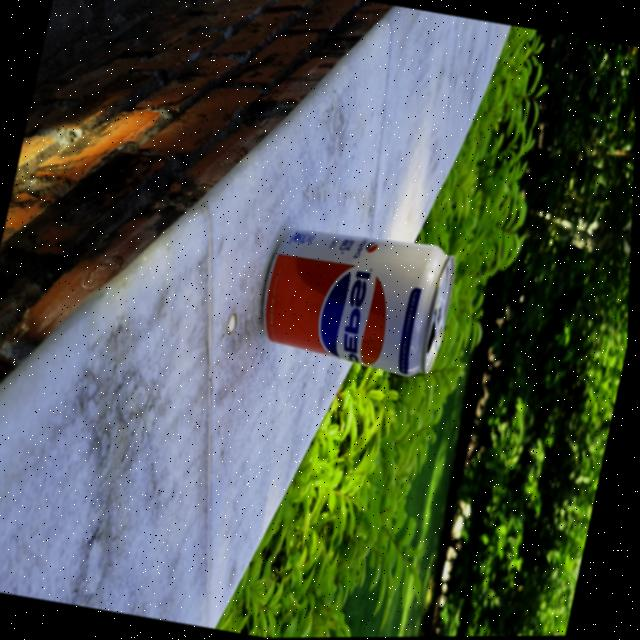Pepsi Retro: (251, 218, 464, 385)
